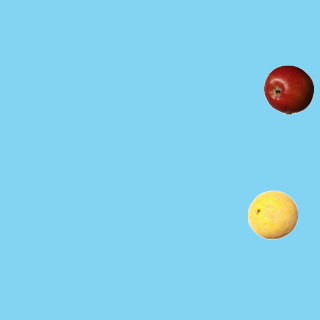Apple Braeburn: (263, 64, 313, 114)
Cantaloupe 1: (247, 189, 297, 239)
